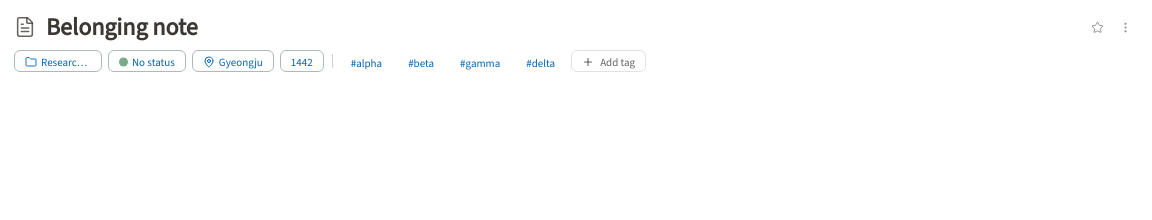
Test case: TitleBar 더보기 메뉴 — 이름바꾸기 제거 + 내용잠금 › 가져오기 라벨이 SECTION_IMPORT_EXTS에서 유도한 확장자 예시를 보여준다
The image size is (1152, 220).
Click the button named "More".
click(1125, 27)  # box 1112,14 -> 1138,40
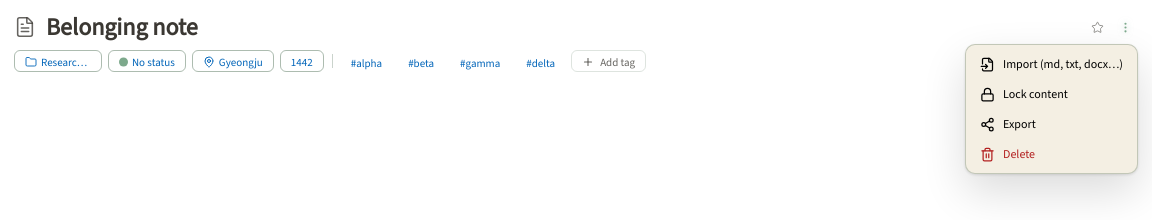
Check: the button with test id "titlebar-menu-import" shows "md, txt, docx", box 970,50 -> 1133,78
